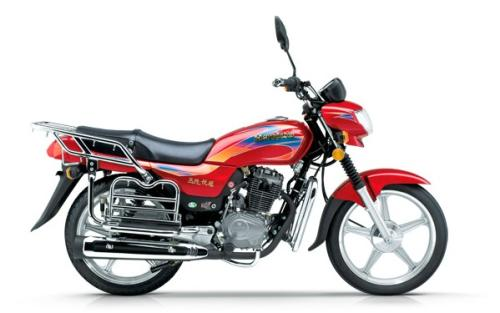motor: (38, 45, 452, 301)
